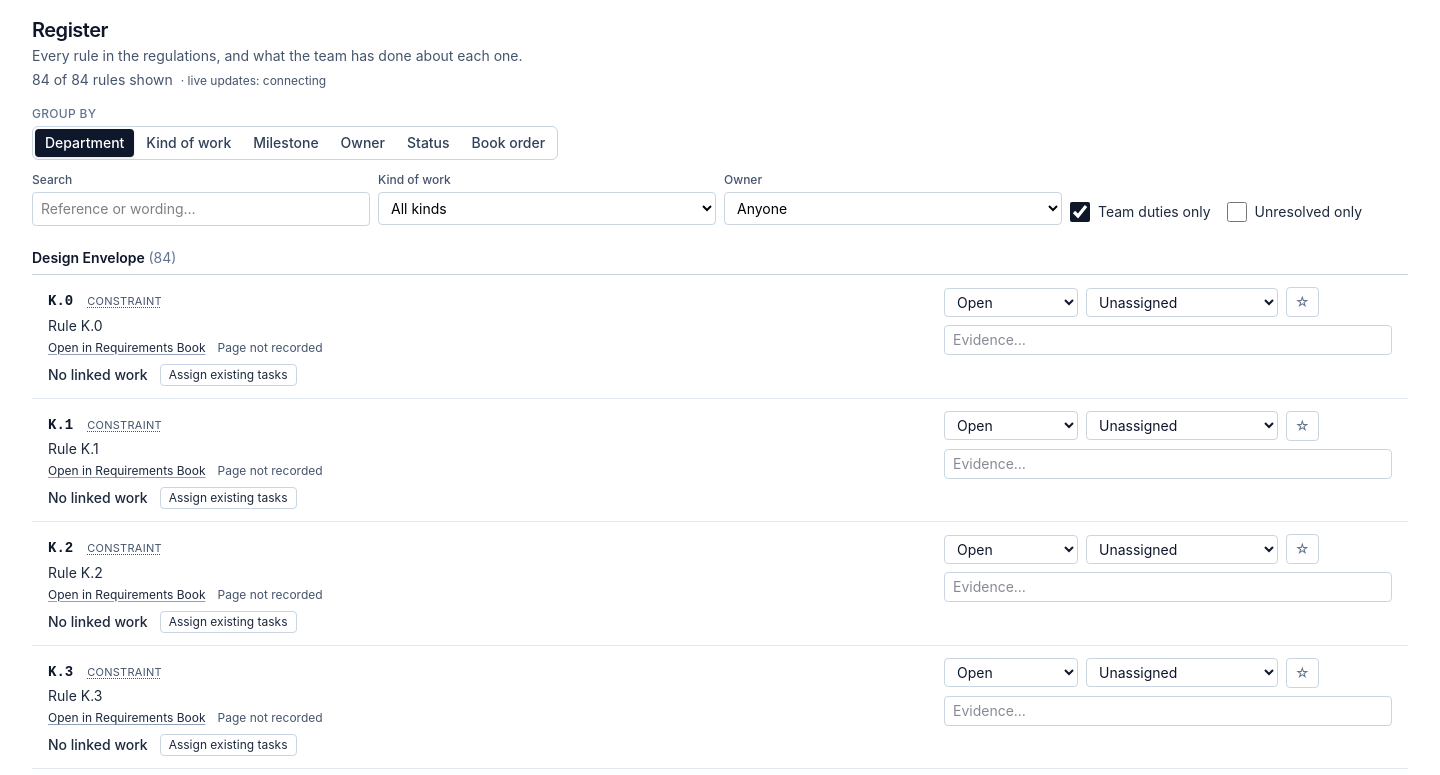
Test case: Assign existing tasks › links an existing task through the link command, and offers only tasks this person may edit
What coordinates should you click on to do the following:
click the button with test id "assign-open-K.0"
I would click on:
 (228, 374)
Its box is [160,364,296,386].
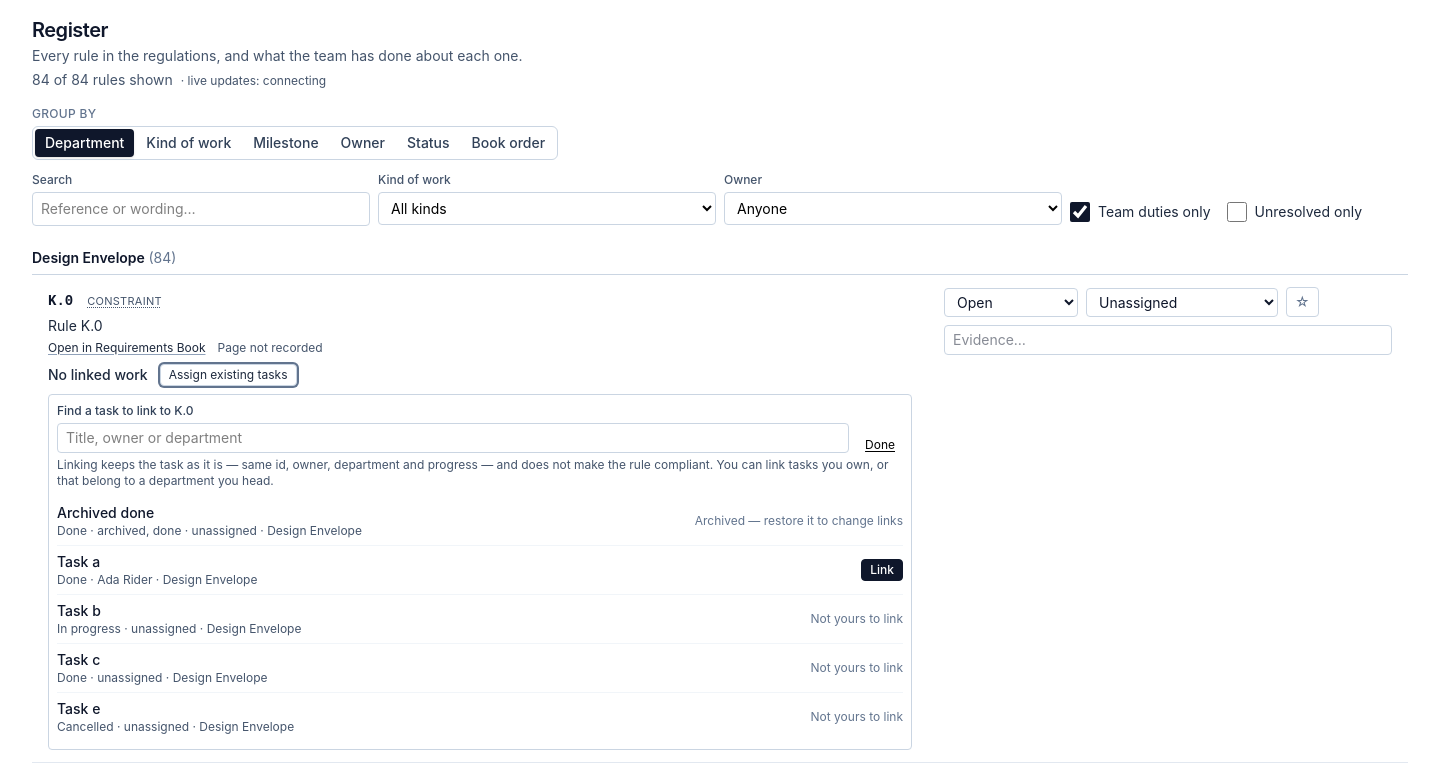
Expected: the list item with test id "assign-row-b" shows "Not yours to link", [811,610,903,626]
What coordinates should you click on to do the following:
click the button "Link"
I would click on:
 (882, 570)
Its box is [861,558,903,580].
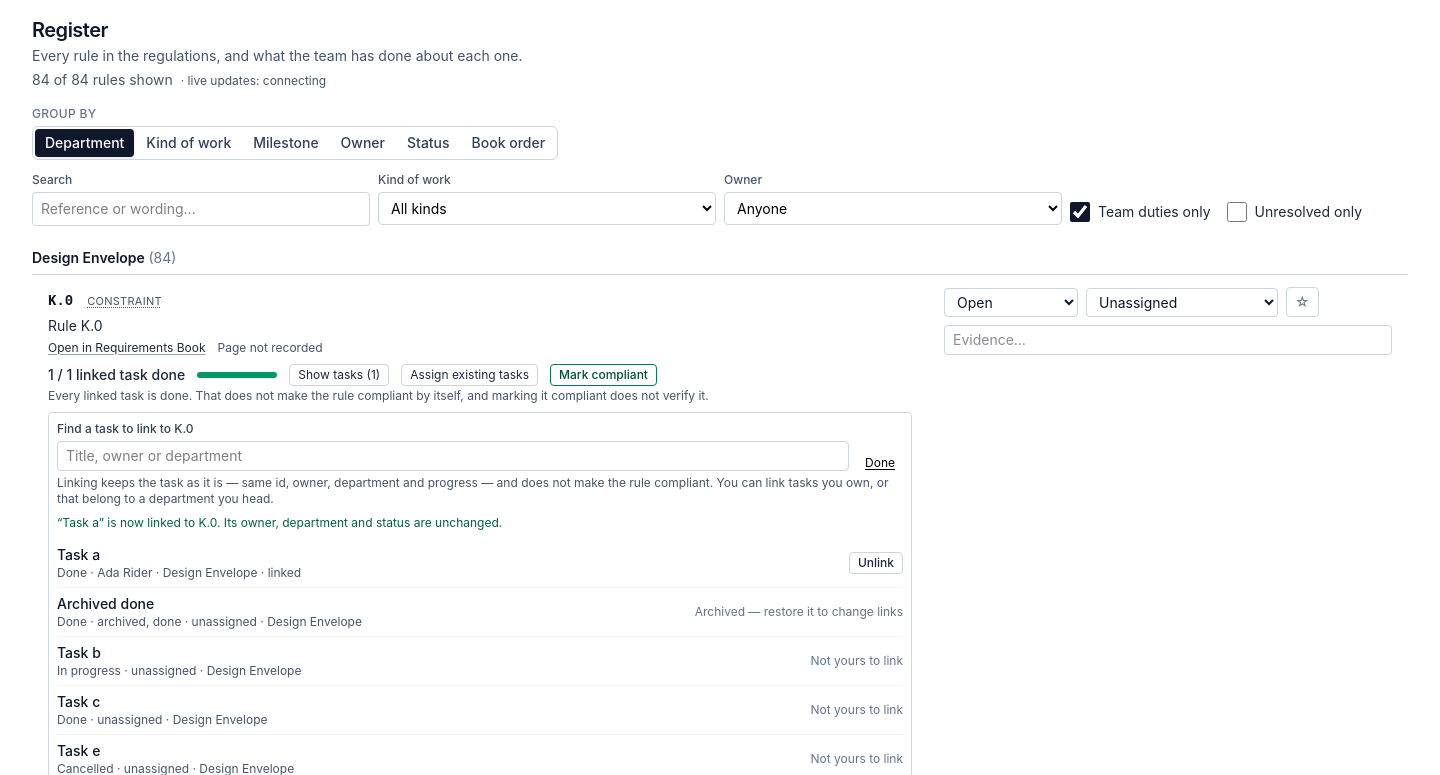
Expected: the text "“Task a” is now linked to K.0. Its owner, department and status are unchanged." is shown, [57,514,502,530]
